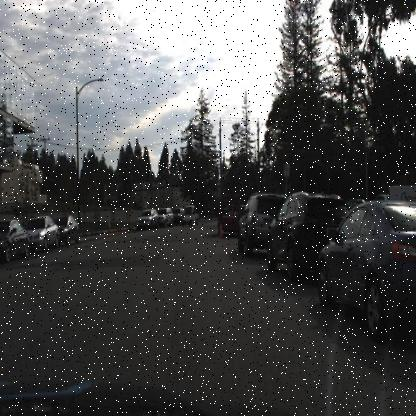car: (317, 201, 415, 343), (264, 186, 322, 278), (235, 188, 264, 254), (26, 212, 61, 254), (27, 216, 62, 251), (216, 187, 239, 238), (0, 217, 27, 258), (54, 214, 80, 248), (60, 214, 81, 245), (134, 207, 156, 233), (158, 202, 173, 227)
